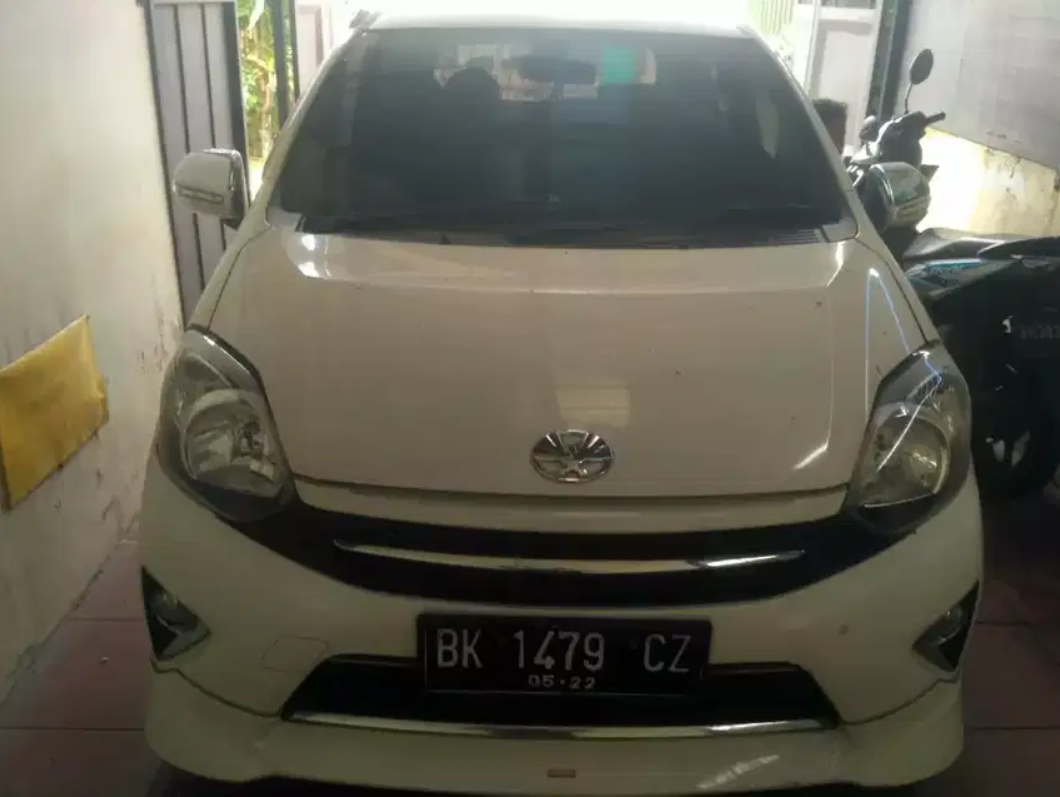plate: (420, 617, 712, 699)
